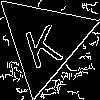K: (19, 15, 64, 69)
